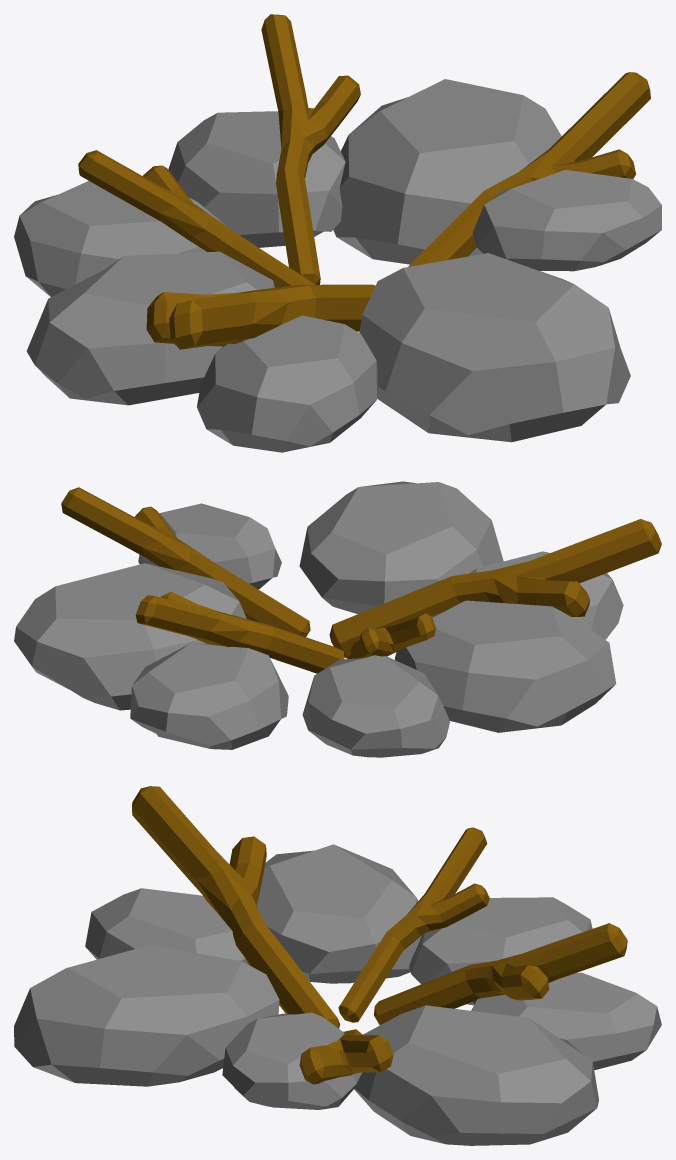
Rendered from campfire.fbx.
The picture shows the model from 3 angles, top to bottom: view 1: azimuth 30°, elevation 25°; view 2: azimuth 150°, elevation 25°; view 3: azimuth 270°, elevation 25°; orthographic projection. The views are drawn at different scales.
Visible parts, largest first — view 1: Icosphere.014, Icosphere.011, Icosphere.003, Icosphere.015, Icosphere.012, Icosphere.009, Icosphere.006, Cube, Cube.002, Cube.003, Cube.001; view 2: Icosphere.003, Icosphere.014, Icosphere.011, Icosphere.009, Cube.002, Icosphere.006, Cube.003, Cube, Icosphere.012, Icosphere.015, Cube.001; view 3: Icosphere.014, Icosphere.011, Icosphere.003, Cube.002, Icosphere.009, Cube, Icosphere.012, Icosphere.006, Icosphere.015, Cube.001, Cube.003.
Part boxes in pixels (box(x1,y1,x2,y2)): Icosphere.014: box(359, 253, 630, 442); Icosphere.011: box(333, 79, 561, 264); Icosphere.003: box(26, 251, 274, 405); Icosphere.015: box(197, 315, 377, 452); Icosphere.012: box(472, 170, 661, 271); Icosphere.009: box(168, 111, 345, 247); Icosphere.006: box(14, 181, 226, 296); Cube: box(261, 14, 360, 284); Cube.002: box(146, 284, 375, 349); Cube.003: box(408, 72, 650, 266); Cube.001: box(78, 150, 315, 287); Icosphere.003: box(395, 600, 616, 732); Icosphere.014: box(299, 481, 503, 613); Icosphere.011: box(14, 563, 246, 710); Icosphere.009: box(130, 643, 288, 749); Cube.002: box(329, 519, 661, 658); Icosphere.006: box(302, 655, 449, 757); Cube.003: box(61, 487, 310, 636); Cube: box(135, 591, 344, 673); Icosphere.012: box(138, 503, 281, 589); Icosphere.015: box(469, 551, 623, 639); Cube.001: box(350, 613, 435, 658); Icosphere.014: box(14, 944, 279, 1086); Icosphere.011: box(354, 1005, 598, 1145); Icosphere.003: box(257, 844, 421, 983); Cube.002: box(132, 786, 340, 1028); Icosphere.009: box(471, 972, 661, 1070); Cube: box(374, 923, 627, 1025); Icosphere.012: box(222, 1012, 361, 1109); Icosphere.006: box(409, 897, 592, 1005); Icosphere.015: box(85, 888, 248, 964); Cube.001: box(338, 827, 489, 1022); Cube.003: box(299, 1029, 393, 1084).
Bounding box in the file's own units: 2.14 × 0.5701 × 2.13.
1 material, 1 textured.
